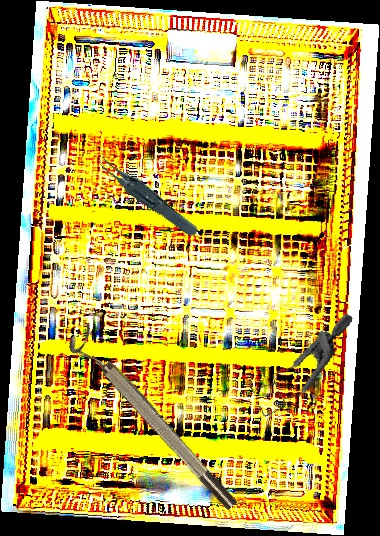Fixation Ring: (64, 323, 241, 520)
Speculum: (241, 294, 354, 433)
Tissue Forceps: (93, 132, 200, 254)
